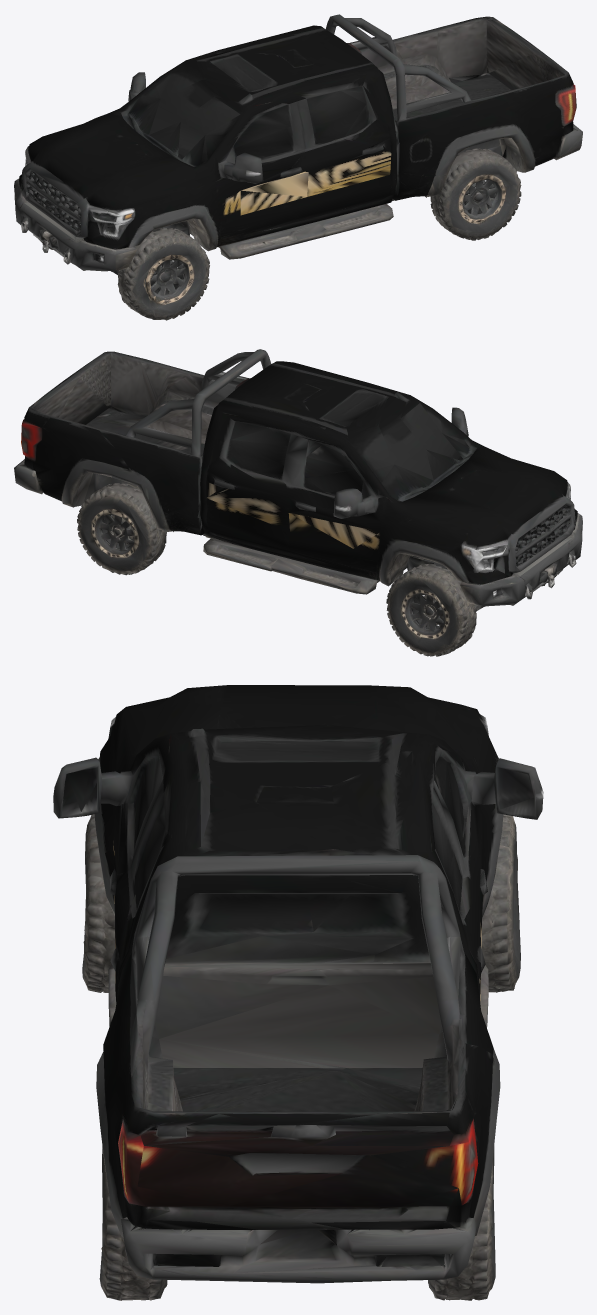
File: black-pickup.glb
3 views of the same model, one above another, from view 1: azimuth 30°, elevation 25°; view 2: azimuth 150°, elevation 25°; view 3: azimuth 270°, elevation 25° (orthographic). The views are drawn at different scales.
Parts seen in each view (by area): view 1: body, driver-door, wheel--1-1, wheel-1-1; view 2: body, wheel--1--1, wheel-1--1; view 3: body, driver-door, wheel--1--1, wheel-1-1, wheel-1--1, wheel--1-1.
Boxes of the visible parts, bbox=[...] form: body: bbox=[14, 14, 582, 308]; driver-door: bbox=[219, 94, 311, 243]; wheel--1-1: bbox=[118, 228, 208, 320]; wheel-1-1: bbox=[444, 151, 521, 240]; body: bbox=[14, 349, 582, 650]; wheel--1--1: bbox=[386, 564, 475, 656]; wheel-1--1: bbox=[77, 486, 164, 575]; body: bbox=[84, 685, 543, 1300]; driver-door: bbox=[53, 733, 171, 909]; wheel--1--1: bbox=[481, 814, 520, 992]; wheel-1-1: bbox=[99, 1146, 147, 1300]; wheel-1--1: bbox=[458, 1146, 495, 1300]; wheel--1-1: bbox=[82, 814, 103, 992].
Bounding box in the file's own units: 5.5 × 1.93 × 2.32.
Materials: 1 (1 with a texture image).
